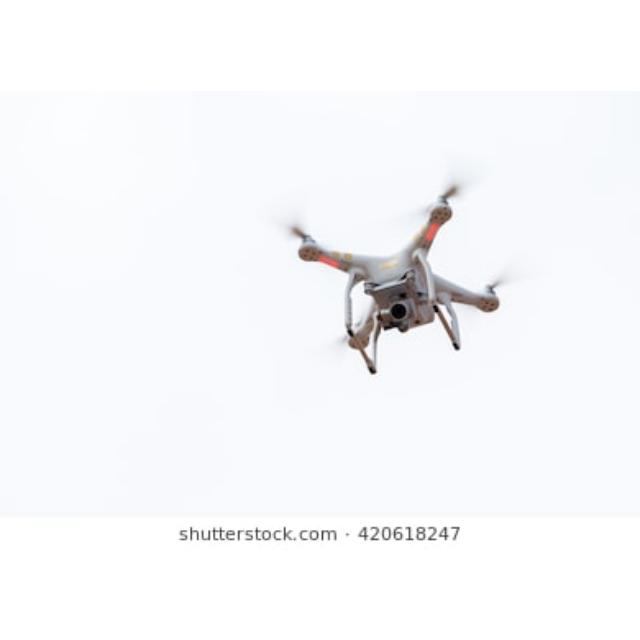Drones: (285, 185, 505, 369)
